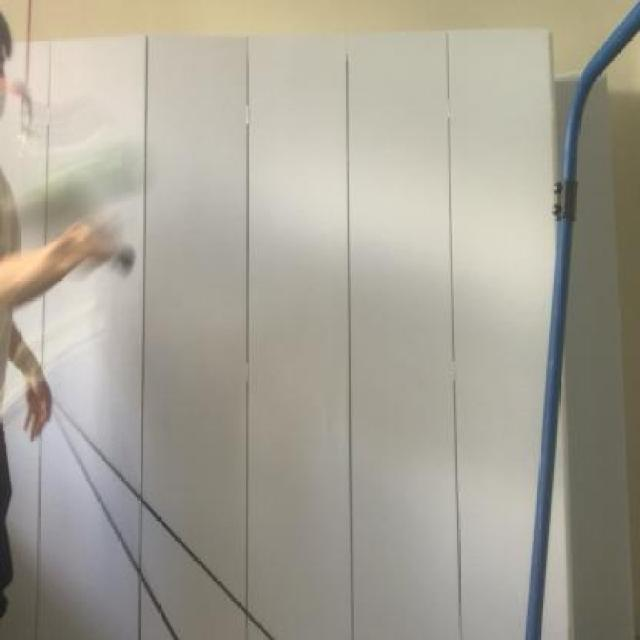baseball: (28, 140, 149, 220)
